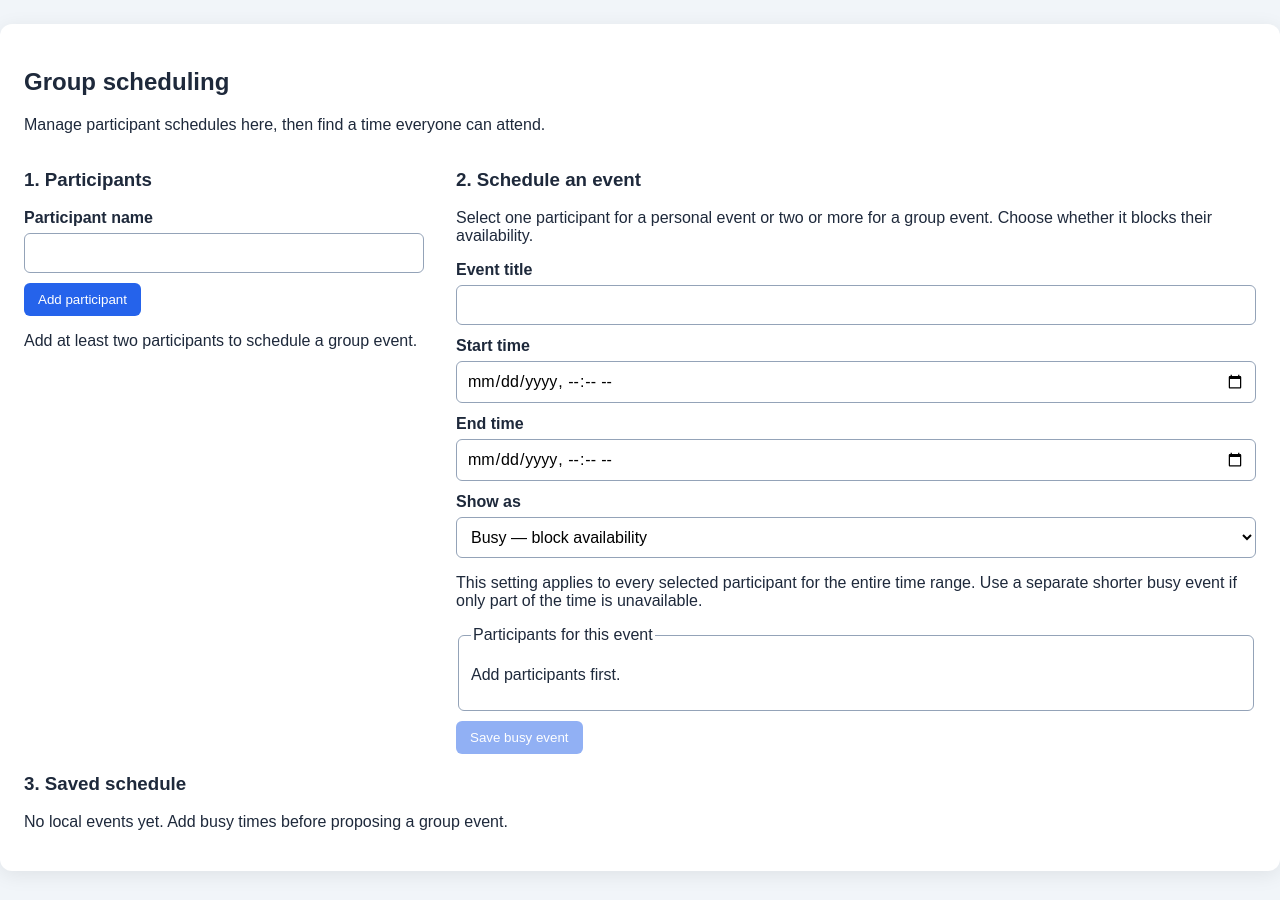
Test: rejects duplicate participants and reports unavailable storage
Step 1. Type "Alex" into the field labelled "Participant name" → (224, 253), box x1=24 y1=233 x2=424 y2=273
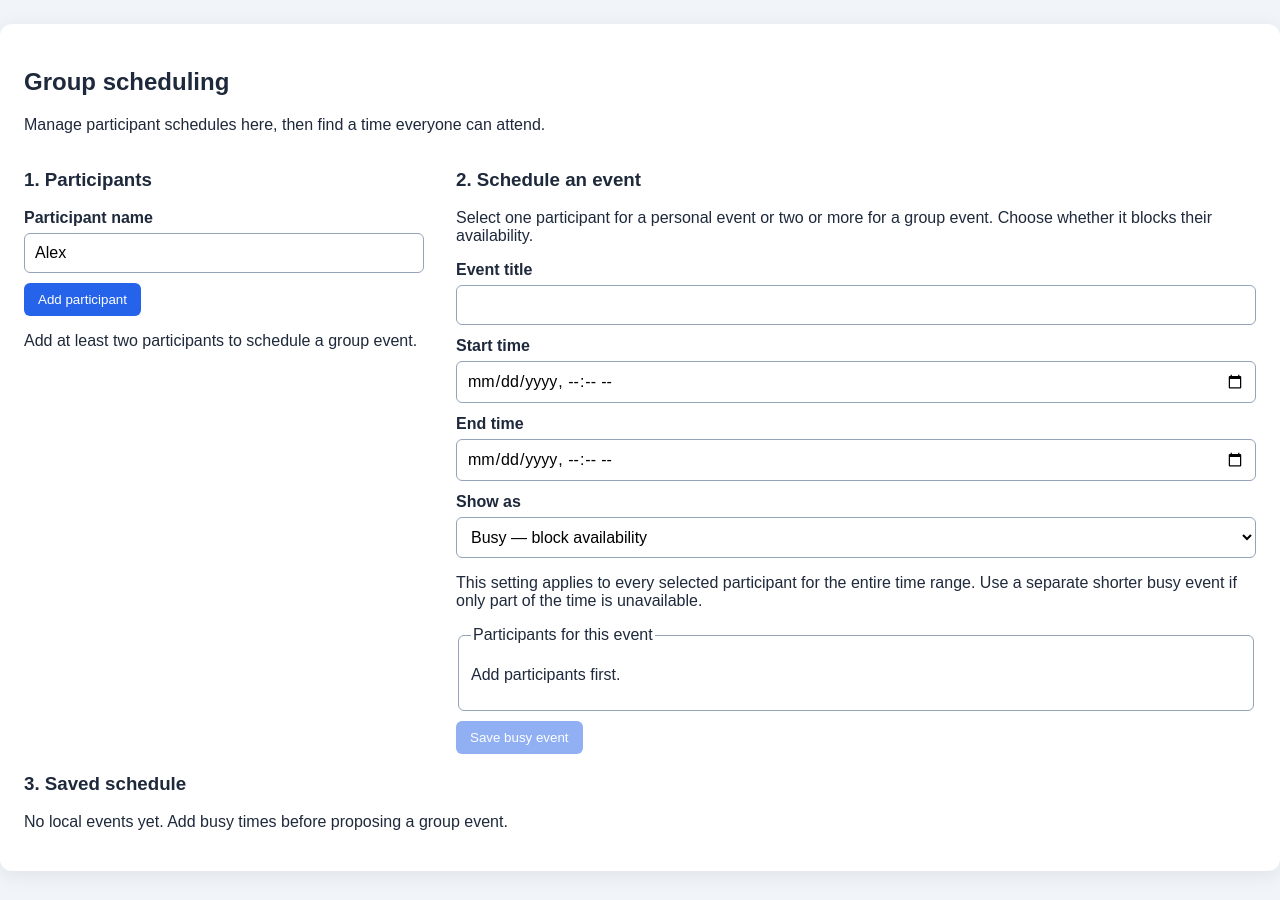
Step 2. Click the button "Add participant" → (82, 300), box x1=24 y1=283 x2=141 y2=316
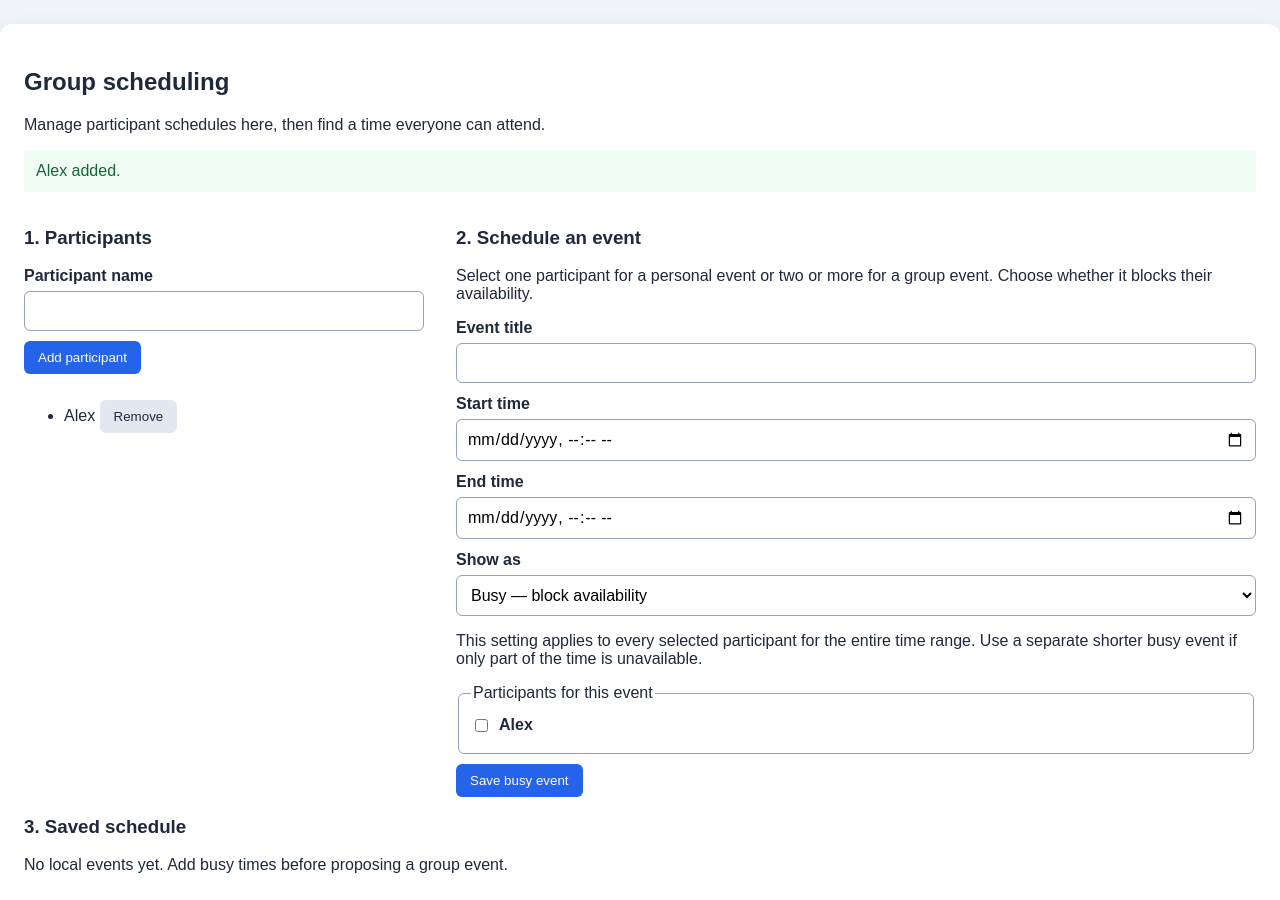
Step 3. Type "alex" into the field labelled "Participant name" → (224, 311), box x1=24 y1=291 x2=424 y2=331
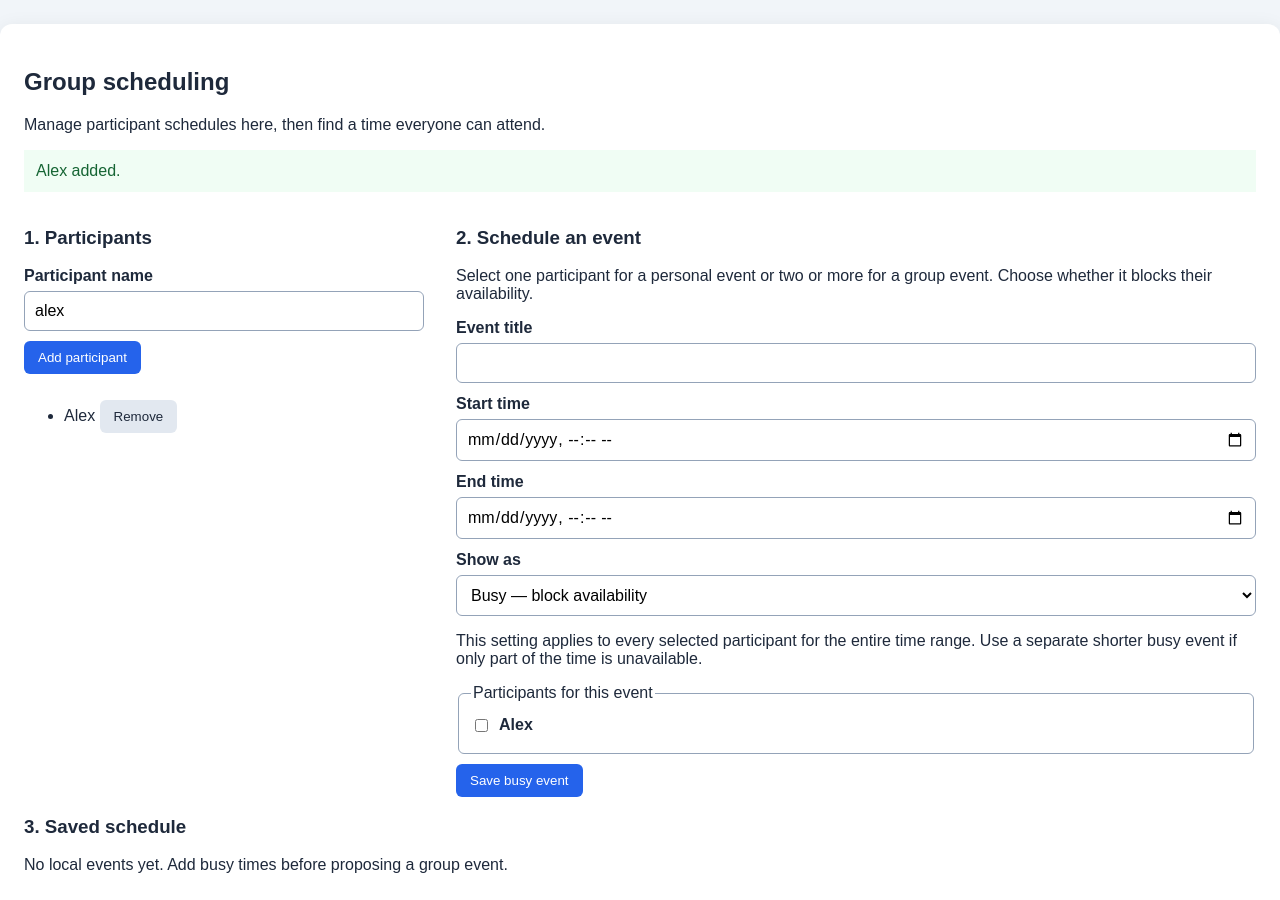
Step 4. Click the button "Add participant" → (82, 358), box x1=24 y1=341 x2=141 y2=374
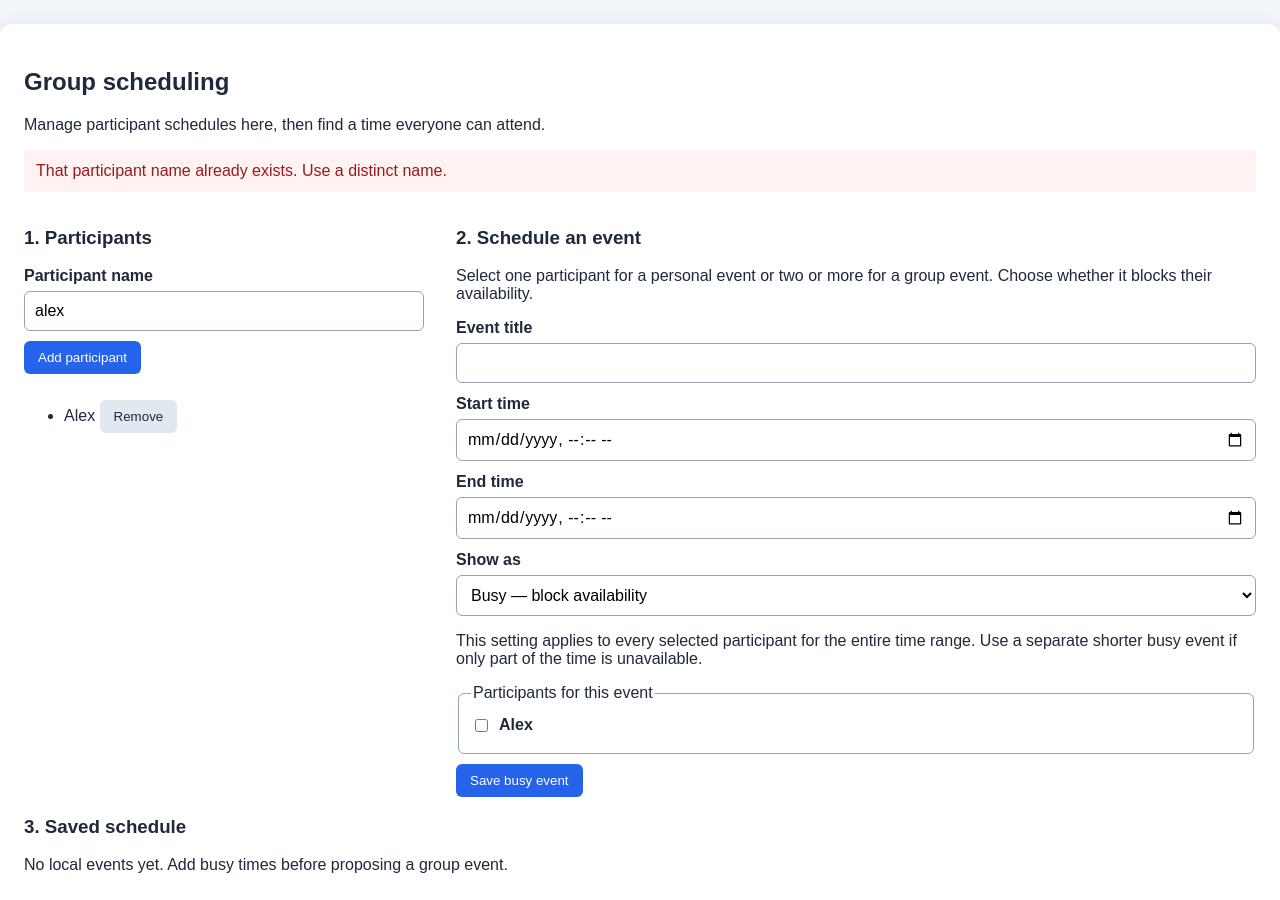
Now the message shows "already exists", box x1=36 y1=162 x2=447 y2=179
Step 5. Replace the text in the field labelled "Participant name" with "Sam" → (224, 311), box x1=24 y1=291 x2=424 y2=331
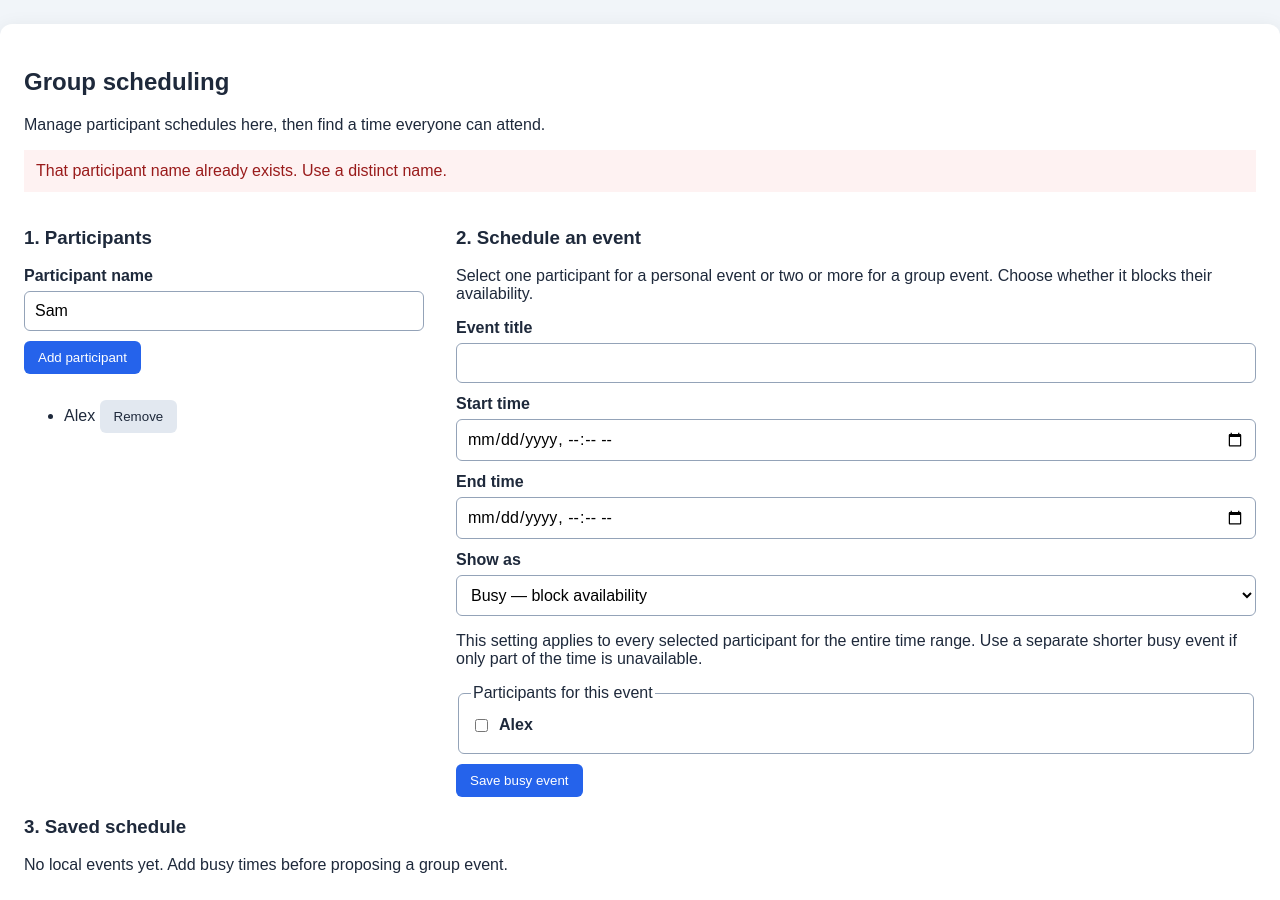
Step 6. Click the button "Add participant" → (82, 358), box x1=24 y1=341 x2=141 y2=374
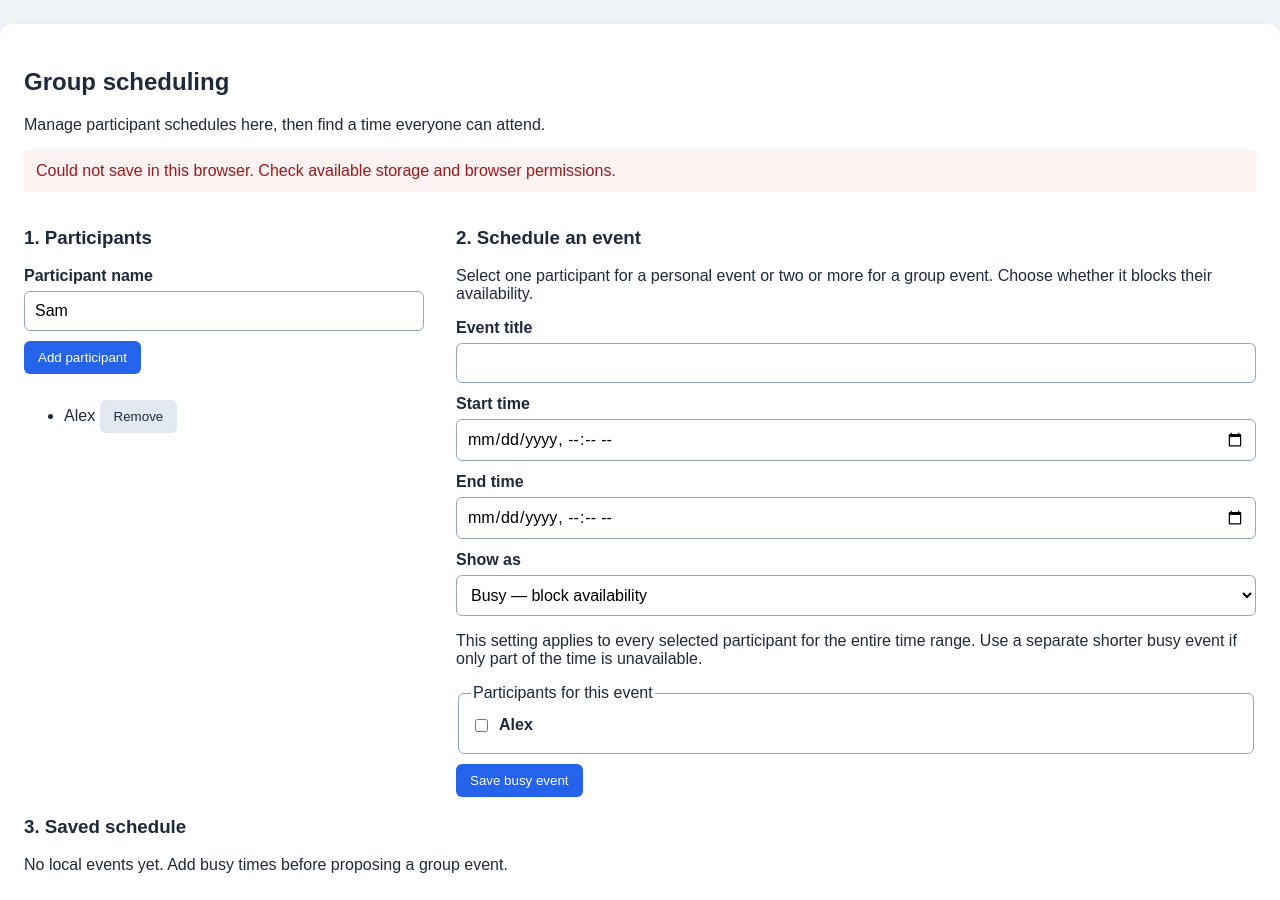
Now the message shows "Could not save", box x1=36 y1=162 x2=616 y2=179
